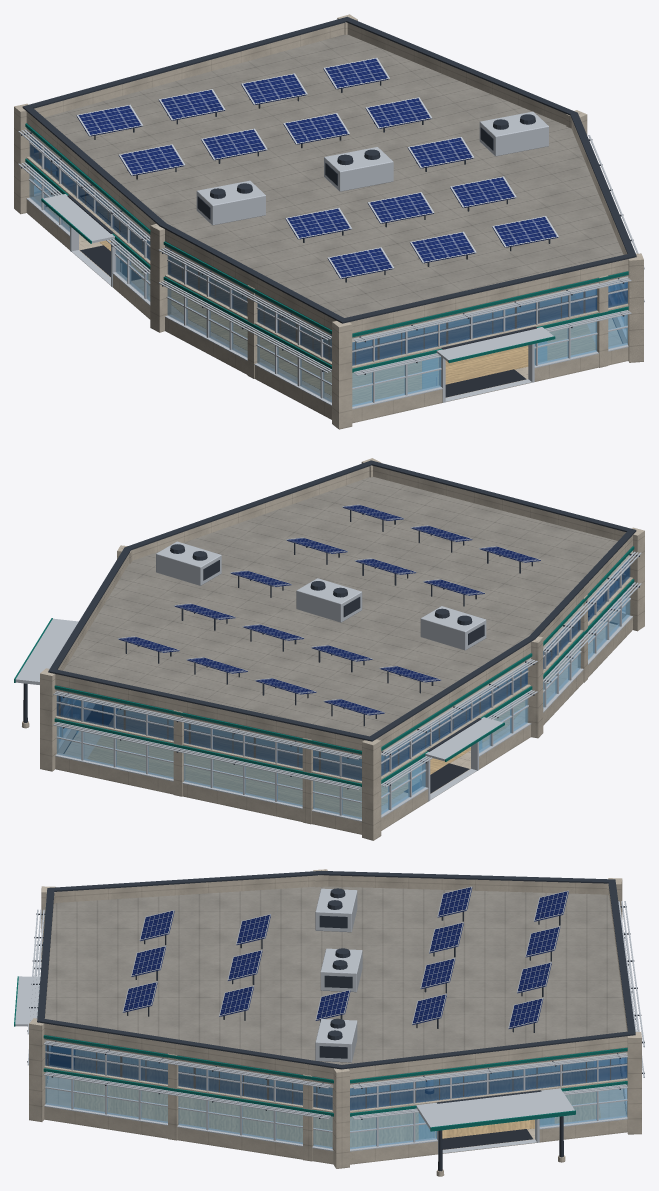
File: landmark_b42.glb
3 views of the same model, one above another, from view 1: azimuth 30°, elevation 25°; view 2: azimuth 150°, elevation 25°; view 3: azimuth 270°, elevation 25° (orthographic). The views are drawn at different scales.
Parts seen in each view (by area): view 1: B42_RoofDeck, B42_Concrete, B42_AluminumMullions, B42_SolarPanels, B42_OfficeFloorOak, B42_DarkSteel, B42_CurtainGlassUpper, B42_CurtainGlassLower, B42_AccentTrim, B42_OfficeFloorConc, B42_WelcomeMats, B42_InteriorDrywall; view 2: B42_RoofDeck, B42_Concrete, B42_AluminumMullions, B42_OfficeFloorOak, B42_DarkSteel, B42_CurtainGlassLower, B42_CurtainGlassUpper, B42_SolarPanels, B42_AccentTrim, B42_OfficeFloorConc, B42_InteriorDrywall, B42_WelcomeMats; view 3: B42_RoofDeck, B42_Concrete, B42_AluminumMullions, B42_OfficeFloorOak, B42_DarkSteel, B42_CurtainGlassLower, B42_CurtainGlassUpper, B42_SolarPanels, B42_AccentTrim, B42_OfficeFloorConc, B42_WelcomeMats, B42_InteriorDrywall.
Part boxes in pixels (left/top/right/bottom): B42_RoofDeck: left=27, top=34, right=628, bottom=338; B42_Concrete: left=14, top=14, right=643, bottom=429; B42_AluminumMullions: left=18, top=111, right=644, bottom=409; B42_SolarPanels: left=76, top=58, right=558, bottom=279; B42_OfficeFloorOak: left=97, top=204, right=595, bottom=404; B42_DarkSteel: left=21, top=16, right=636, bottom=374; B42_CurtainGlassUpper: left=29, top=136, right=627, bottom=365; B42_CurtainGlassLower: left=29, top=168, right=627, bottom=406; B42_AccentTrim: left=25, top=123, right=628, bottom=372; B42_OfficeFloorConc: left=30, top=194, right=628, bottom=422; B42_WelcomeMats: left=80, top=245, right=526, bottom=397; B42_InteriorDrywall: left=26, top=128, right=628, bottom=343; B42_RoofDeck: left=55, top=477, right=632, bottom=755; B42_Concrete: left=22, top=458, right=644, bottom=840; B42_AluminumMullions: left=15, top=541, right=641, bottom=821; B42_OfficeFloorOak: left=87, top=626, right=591, bottom=817; B42_DarkSteel: left=23, top=460, right=639, bottom=789; B42_CurtainGlassLower: left=57, top=587, right=629, bottom=819; B42_CurtainGlassUpper: left=56, top=559, right=630, bottom=780; B42_SolarPanels: left=117, top=504, right=540, bottom=715; B42_AccentTrim: left=14, top=546, right=634, bottom=786; B42_OfficeFloorConc: left=57, top=616, right=631, bottom=811; B42_InteriorDrywall: left=55, top=551, right=632, bottom=758; B42_WelcomeMats: left=86, top=704, right=469, bottom=793; B42_RoofDeck: left=44, top=886, right=627, bottom=1084; B42_Concrete: left=29, top=869, right=641, bottom=1176; B42_AluminumMullions: left=15, top=888, right=644, bottom=1154; B42_OfficeFloorOak: left=74, top=1050, right=600, bottom=1147; B42_DarkSteel: left=27, top=870, right=644, bottom=1171; B42_CurtainGlassLower: left=45, top=1076, right=627, bottom=1149; B42_CurtainGlassUpper: left=45, top=1045, right=627, bottom=1110; B42_SolarPanels: left=122, top=886, right=568, bottom=1028; B42_AccentTrim: left=14, top=976, right=627, bottom=1131; B42_OfficeFloorConc: left=47, top=1046, right=626, bottom=1164; B42_WelcomeMats: left=50, top=1046, right=532, bottom=1149; B42_InteriorDrywall: left=44, top=1039, right=627, bottom=1113.
Bounding box in the file's own units: 35.44 × 8.12 × 42.98.
Materials: 16 (6 with a texture image).
